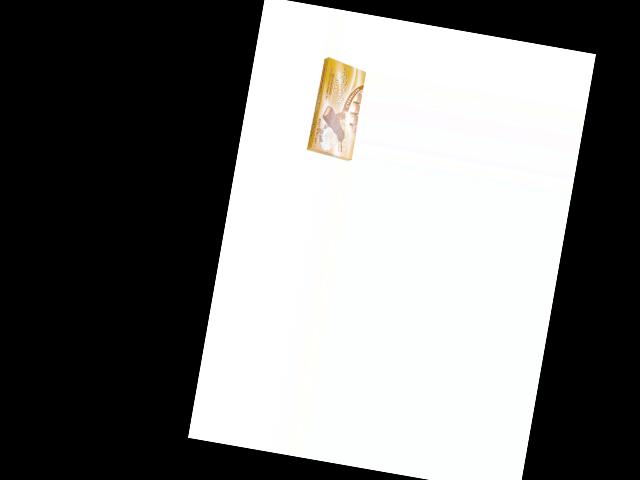chocolate: (305, 54, 369, 161)
